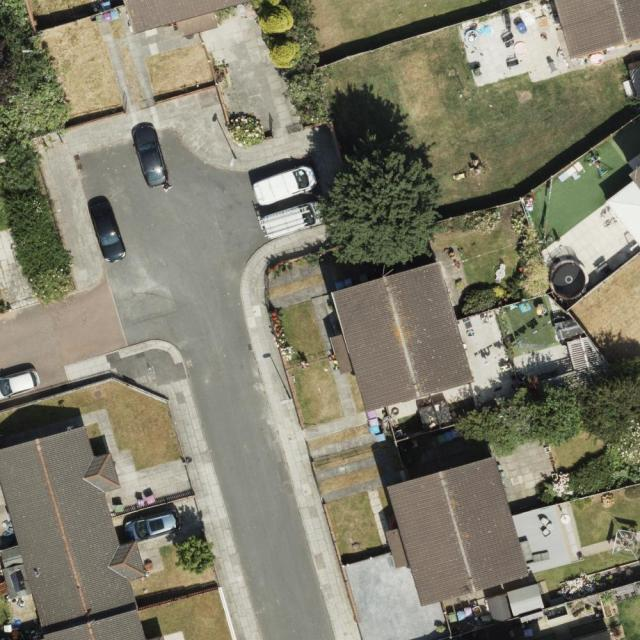roof: (0, 423, 148, 640), (386, 456, 531, 607), (332, 260, 474, 412), (125, 0, 255, 40), (556, 0, 640, 58)
